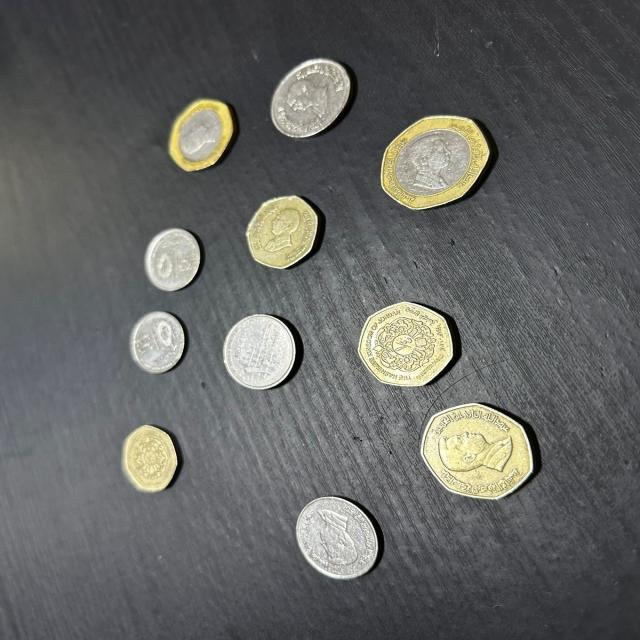10-coins: (267, 54, 356, 140), (222, 312, 301, 393)
25-coins: (420, 400, 538, 503), (356, 302, 459, 388), (243, 192, 328, 270), (118, 412, 187, 492)
5-coins: (294, 491, 381, 584), (124, 300, 187, 377), (142, 228, 204, 292)
50-coins: (379, 114, 495, 214), (166, 95, 236, 172)
